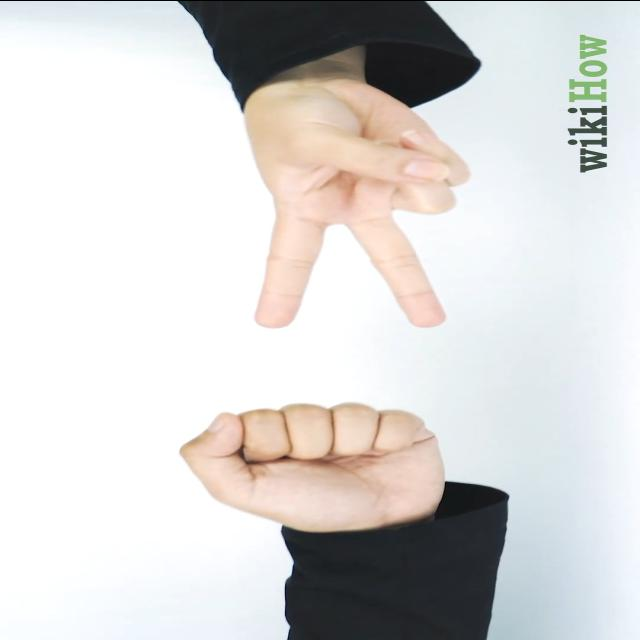Rock: (178, 400, 446, 528)
Scissors: (242, 79, 474, 329)
